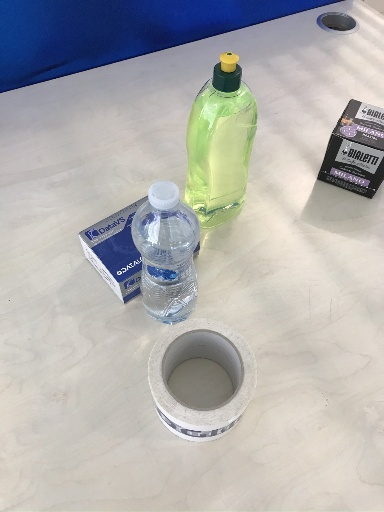Acqua: (132, 182, 204, 323)
Box: (78, 194, 144, 305)
Caffe: (316, 98, 384, 202)
Nastro: (146, 322, 261, 443)
Sapone: (185, 52, 255, 228)
